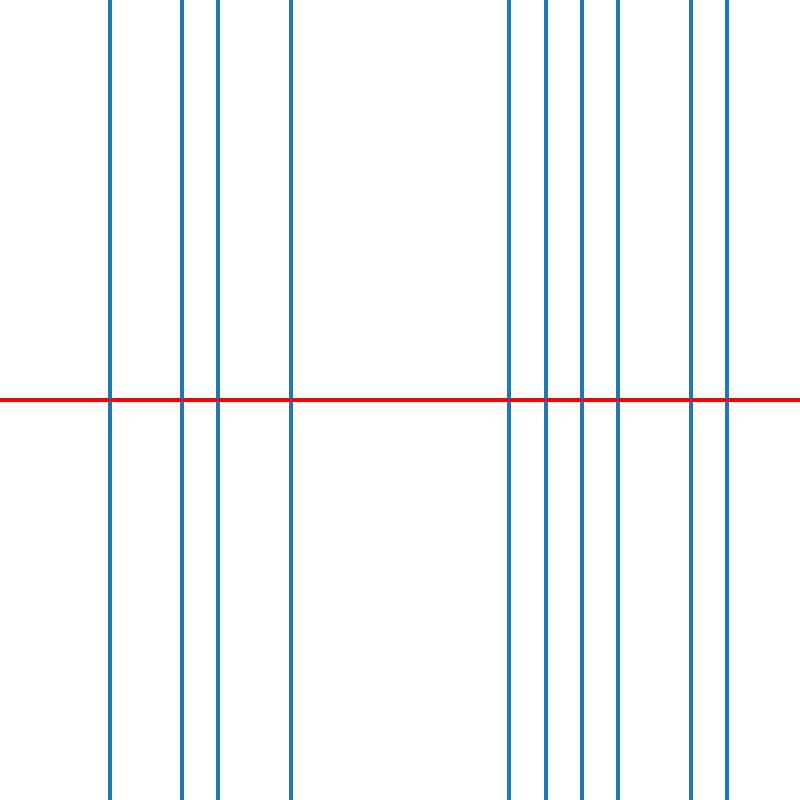root: (541, 396, 549, 404), (105, 396, 112, 404), (578, 396, 585, 404), (505, 396, 512, 404), (178, 396, 185, 404), (214, 396, 221, 404), (614, 396, 621, 404), (287, 396, 294, 404), (687, 396, 694, 404), (723, 396, 730, 404)
